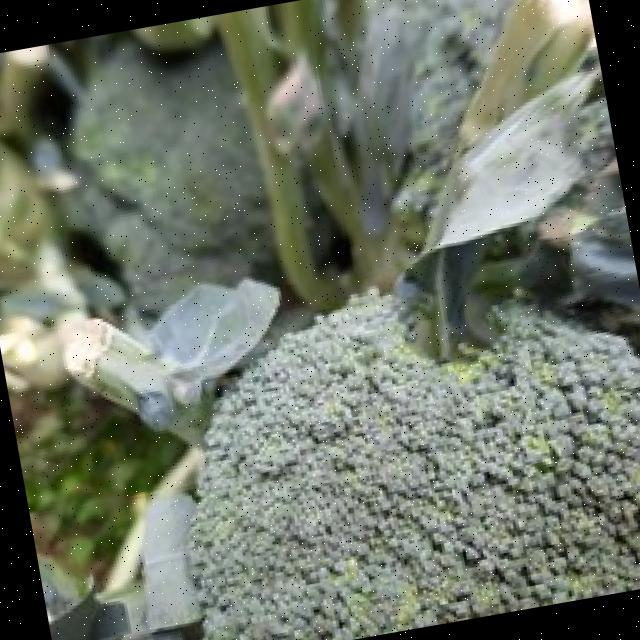Broccoli: (190, 298, 640, 640), (190, 299, 640, 640), (66, 43, 272, 313), (68, 43, 273, 314)
